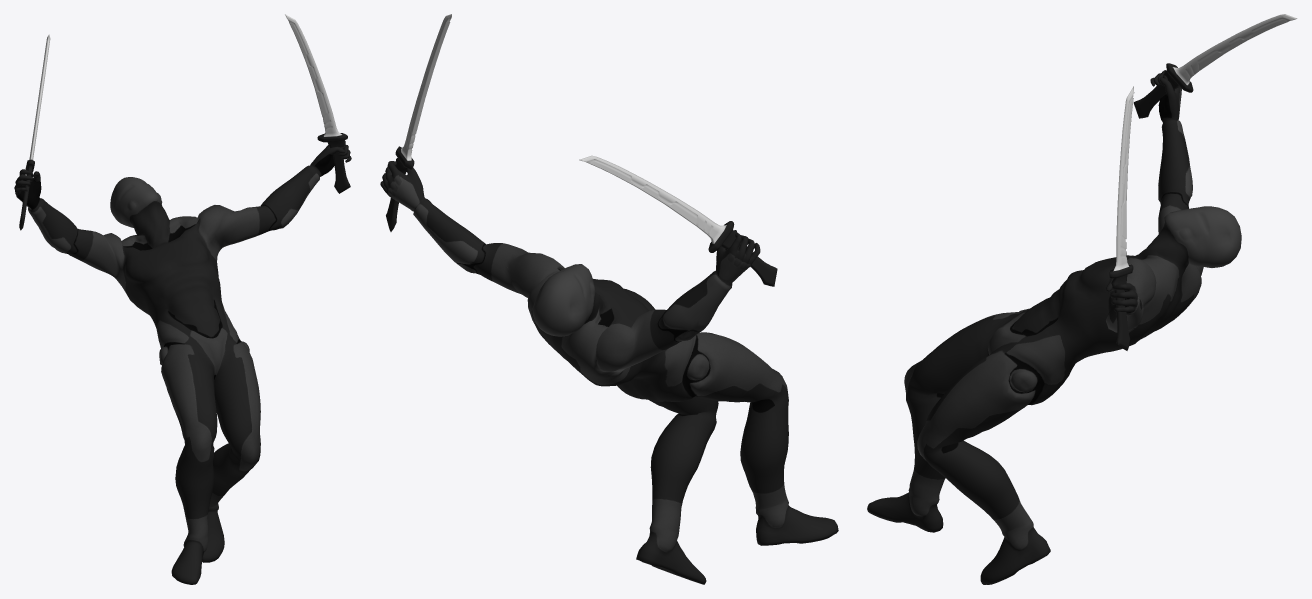
3 renders of one model, left to right at view 1: azimuth 30°, elevation 25°; view 2: azimuth 150°, elevation 25°; view 3: azimuth 270°, elevation 25°, orthographic. The views are drawn at different scales.
Visible parts, largest first — view 1: Cyborg_Ninja_Killer, Sword_l, Sword_l001; view 2: Cyborg_Ninja_Killer, Sword_l001, Sword_l; view 3: Cyborg_Ninja_Killer, Sword_l, Sword_l001.
Boxes of the visible parts, x1,y1,x2,y2 form: Cyborg_Ninja_Killer: (14,140,351,584); Sword_l: (285,14,350,193); Sword_l001: (19,34,50,230); Cyborg_Ninja_Killer: (380,161,838,584); Sword_l001: (579,155,777,286); Sword_l: (386,14,451,231); Cyborg_Ninja_Killer: (867,70,1241,584); Sword_l: (1109,86,1134,350); Sword_l001: (1133,14,1297,118).
Bounding box in the file's own units: 152 × 212 × 143.
2 materials, 2 textured.
